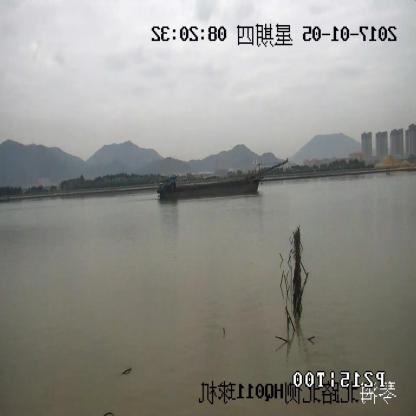Bulk Carrier: (157, 162, 288, 200)
